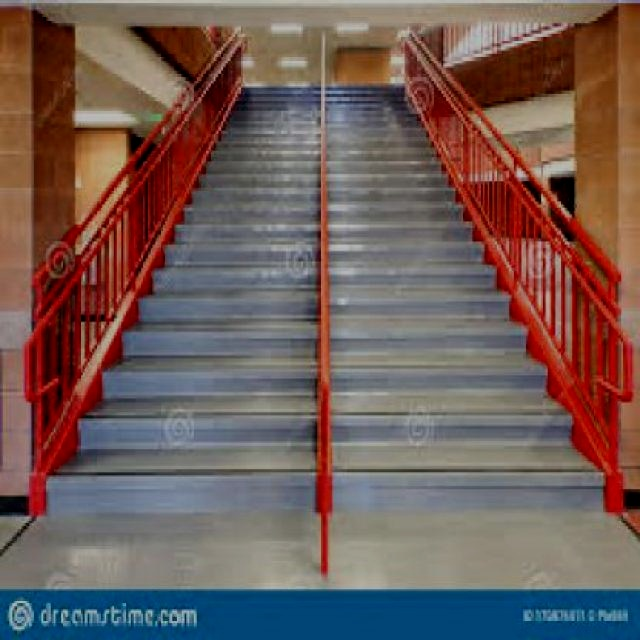stair: (330, 56, 495, 507), (160, 60, 311, 495)
